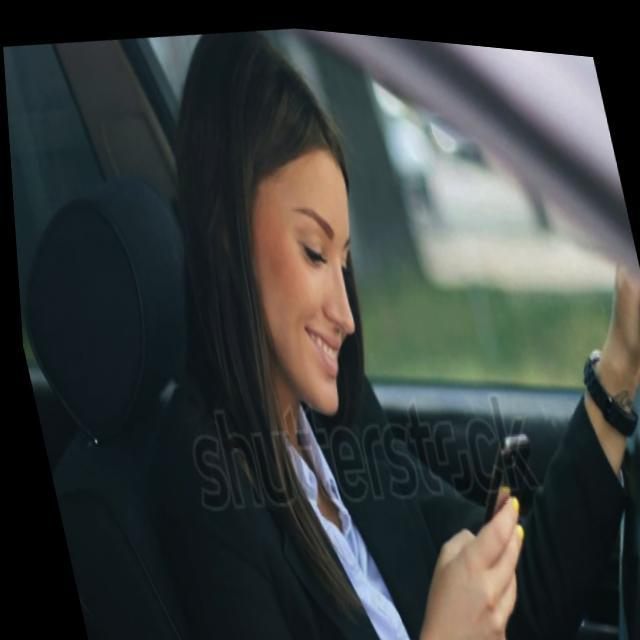PhoneCall: (457, 415, 545, 543)
